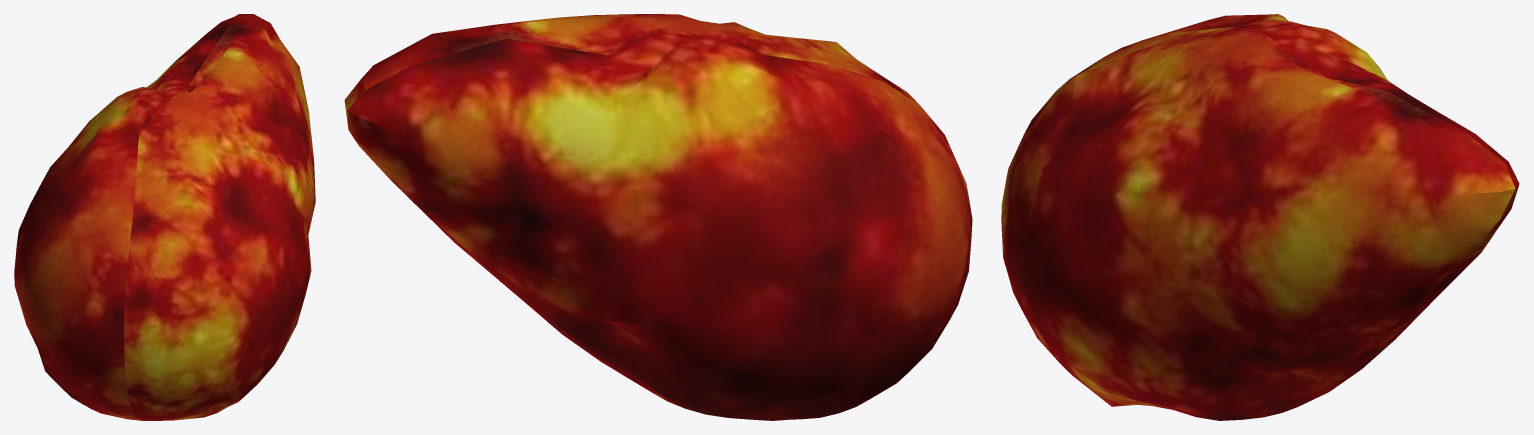
The model's file is Lava Ball.fbx.
3 renders of one model, left to right at view 1: azimuth 30°, elevation 25°; view 2: azimuth 150°, elevation 25°; view 3: azimuth 270°, elevation 25°, orthographic. The views are drawn at different scales.
Visible parts, largest first — view 1: Lava Ball; view 2: Lava Ball; view 3: Lava Ball.
Boxes of the visible parts, x1=… form: Lava Ball: x1=14, y1=14, x2=315, y2=420; Lava Ball: x1=344, y1=14, x2=972, y2=420; Lava Ball: x1=1001, y1=14, x2=1519, y2=420.
Bounding box in the file's own units: 264 × 210 × 253.
